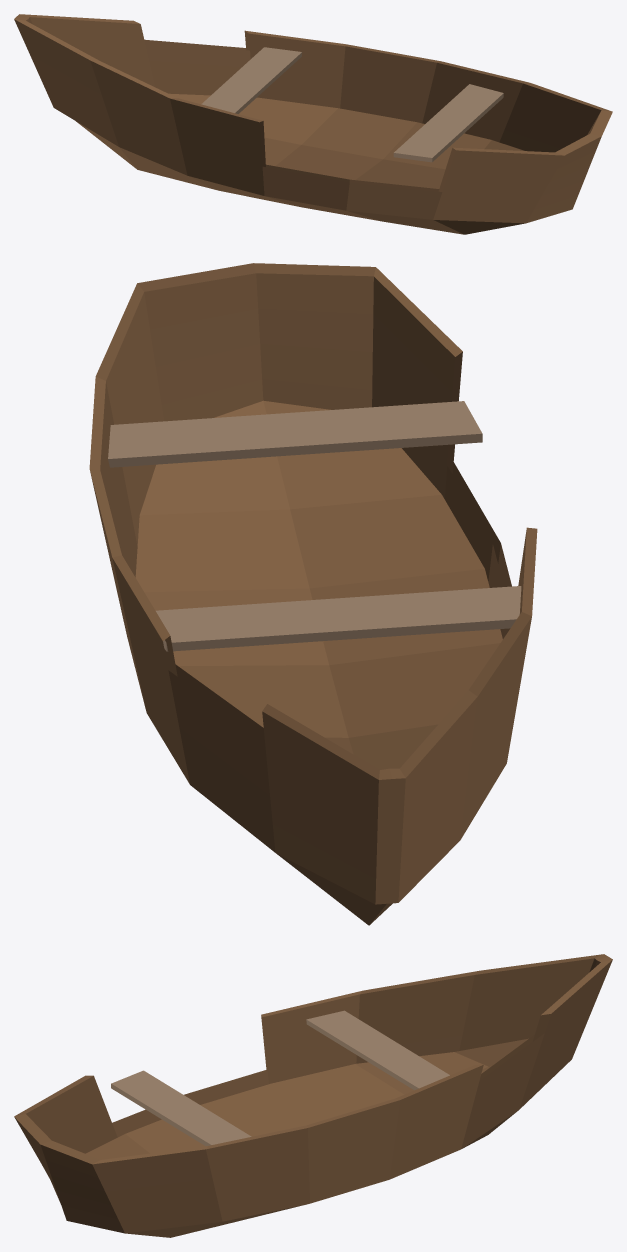
File: 08 Boat_Broken_5.FBX
3 renders of one model, top to bottom at view 1: azimuth 30°, elevation 25°; view 2: azimuth 150°, elevation 25°; view 3: azimuth 270°, elevation 25°, orthographic. The views are drawn at different scales.
Visible parts, largest first — view 1: Cube007; view 2: Cube007; view 3: Cube007.
Part boxes in pixels (box(x1,y1,x2,y2)): Cube007: box(14, 14, 612, 234); Cube007: box(89, 263, 537, 925); Cube007: box(14, 954, 612, 1237).
Bounding box in the file's own units: 717 × 255 × 920.
